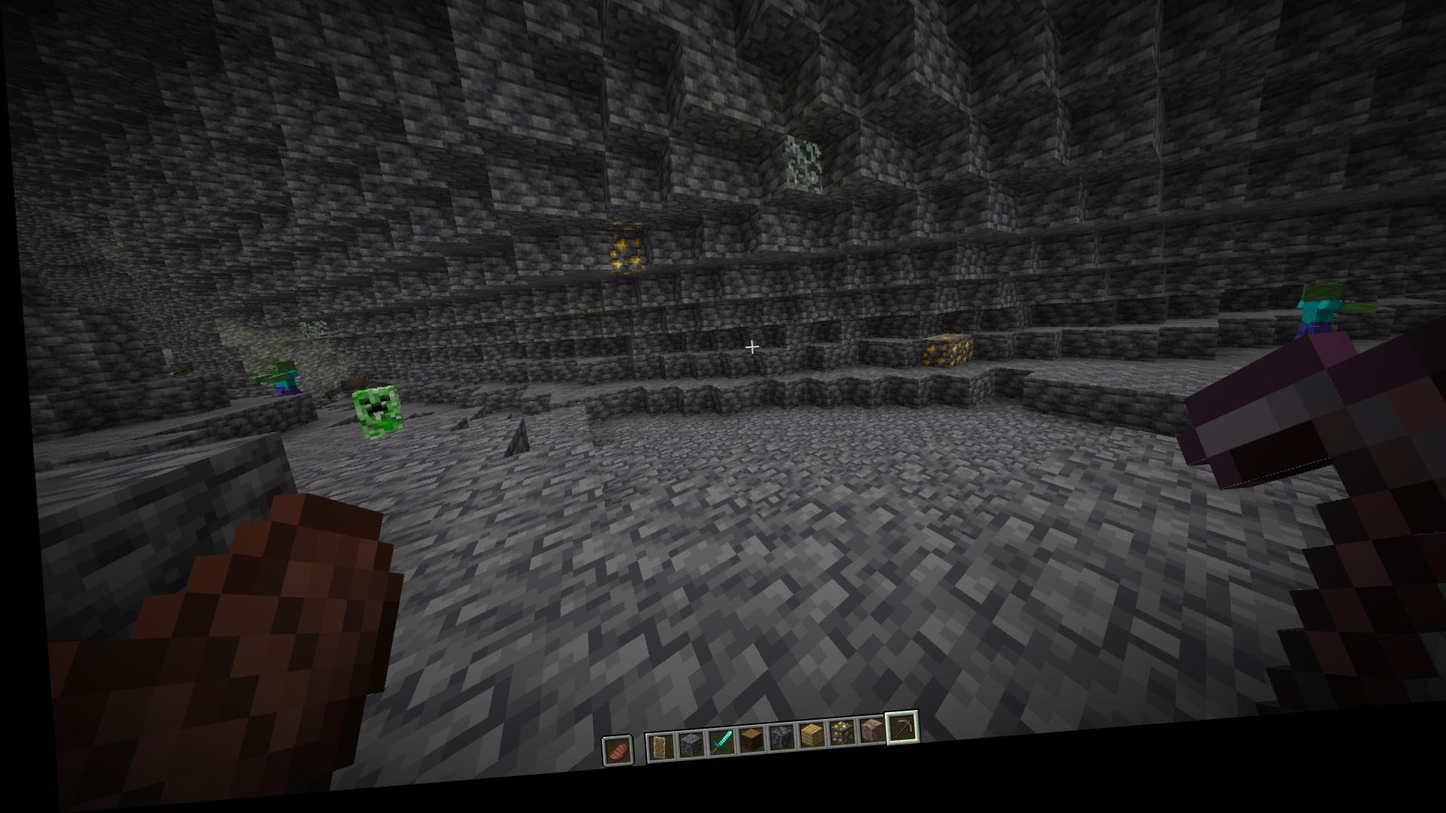gold ore: (599, 240, 643, 285), (916, 354, 946, 384), (944, 352, 968, 381)
